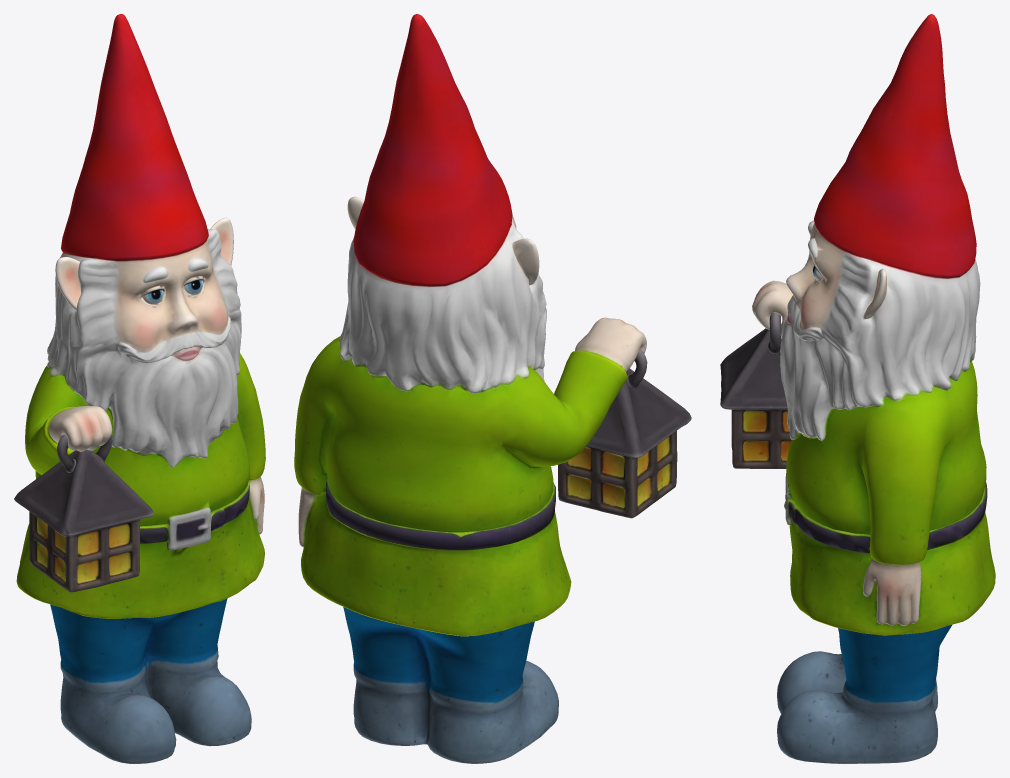
The model's file is premium-ph-garden-gnome.glb.
3 views of the same model, side by side, from view 1: azimuth 30°, elevation 25°; view 2: azimuth 150°, elevation 25°; view 3: azimuth 270°, elevation 25° (orthographic). The views are drawn at different scales.
Visible parts, largest first — view 1: garden_gnome; view 2: garden_gnome; view 3: garden_gnome.
Boxes of the visible parts, x1,y1,x2,y2 form: garden_gnome: (14,14,265,763); garden_gnome: (294,14,691,763); garden_gnome: (720,14,995,763).
Bounding box in the file's own units: 0.2579 × 0.5991 × 0.2097.
1 material, 1 textured.
